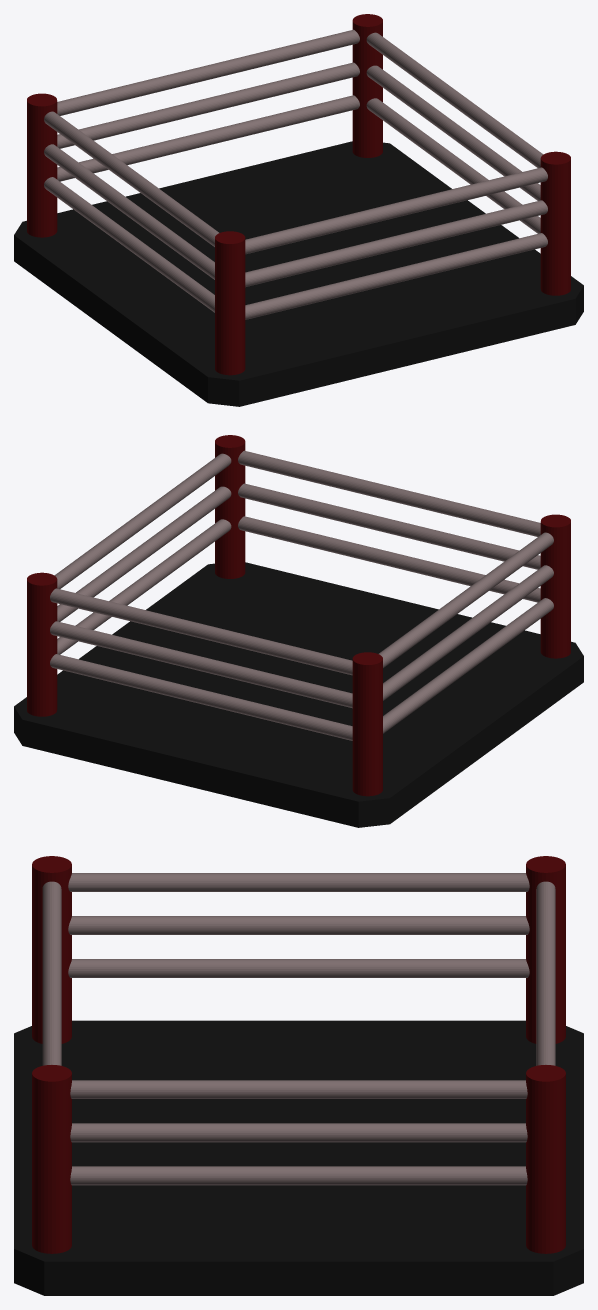
File: ring.obj
3 renders of one model, top to bottom at view 1: azimuth 30°, elevation 25°; view 2: azimuth 150°, elevation 25°; view 3: azimuth 270°, elevation 25°, orthographic. The views are drawn at different scales.
Visible parts, largest first — view 1: Cube, Cylinder; view 2: Cube, Cylinder; view 3: Cube, Cylinder.
Boxes of the visible parts, <box> form: Cube: <box>14,141,583,406</box>; Cylinder: <box>27,14,570,375</box>; Cube: <box>14,562,583,827</box>; Cylinder: <box>27,435,570,796</box>; Cube: <box>14,1020,583,1295</box>; Cylinder: <box>32,856,565,1253</box>.
Size of the model in its own units: 6 by 2.4 by 6.
